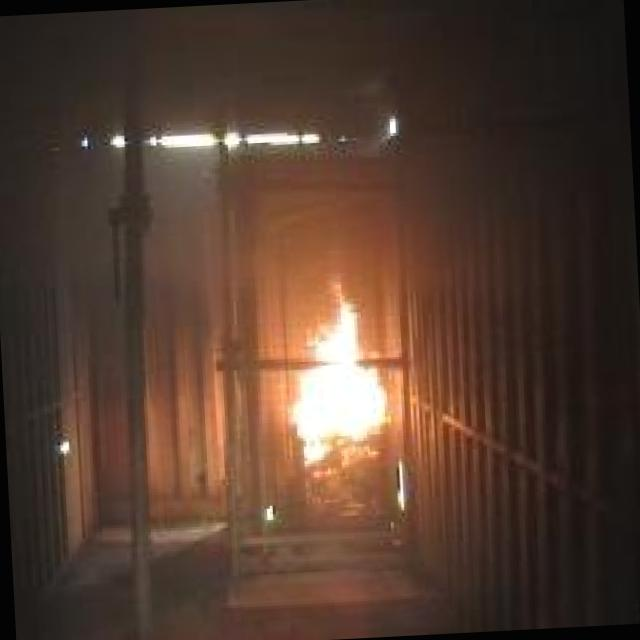fire: (260, 256, 433, 467)
